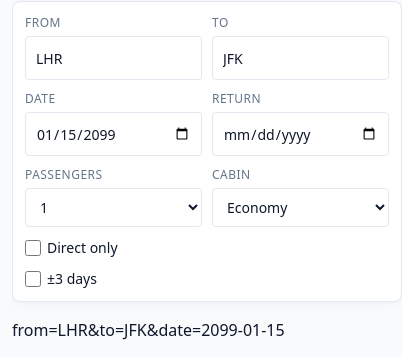
Test: SearchFormBar › toggling Flexible dates flips flex_dates param
Click the checkbox named "flexible". click: (33, 278)
box: [25,270,41,286]
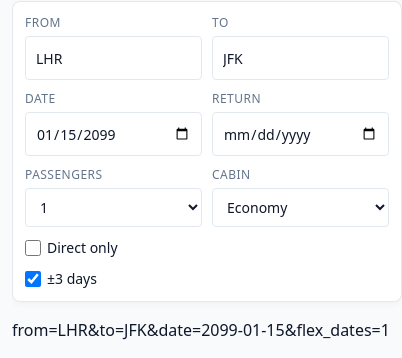
Expected: the text with test id "probe" shows "flex_dates=1", [12,319,390,341]
